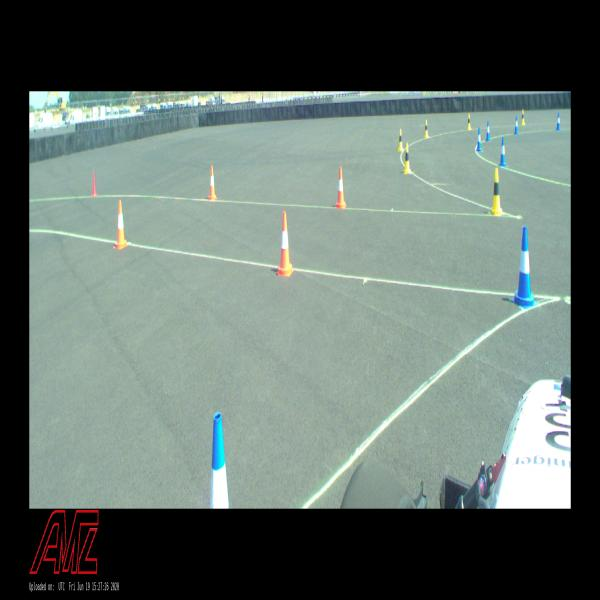blue_cone: (512, 226, 538, 308), (208, 412, 230, 508), (499, 137, 508, 167), (477, 126, 481, 152), (556, 112, 561, 131), (514, 115, 519, 134), (486, 120, 490, 142)
orange_cone: (276, 212, 294, 276), (114, 200, 128, 250), (336, 167, 346, 209), (208, 167, 217, 200)
unknown_cone: (90, 170, 98, 196)
yellow_cone: (489, 168, 504, 215), (403, 144, 412, 174), (397, 128, 404, 151), (424, 120, 429, 138), (467, 113, 471, 130), (521, 109, 525, 125)
